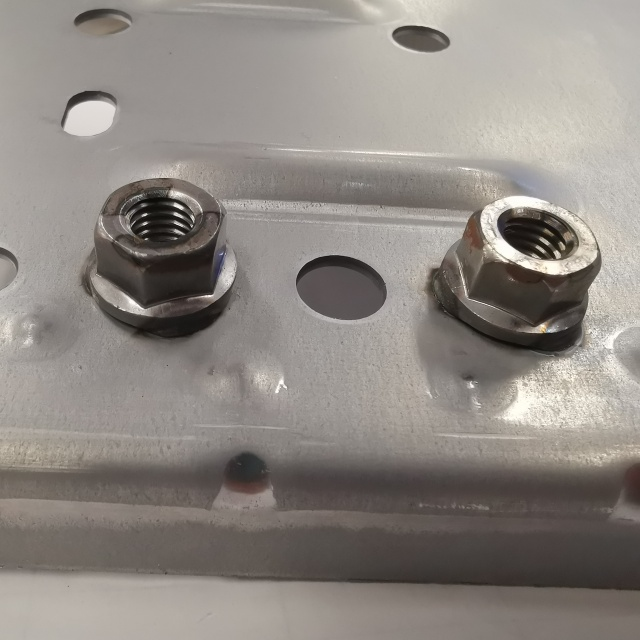dog: (431, 190, 606, 354), (80, 171, 241, 339)
